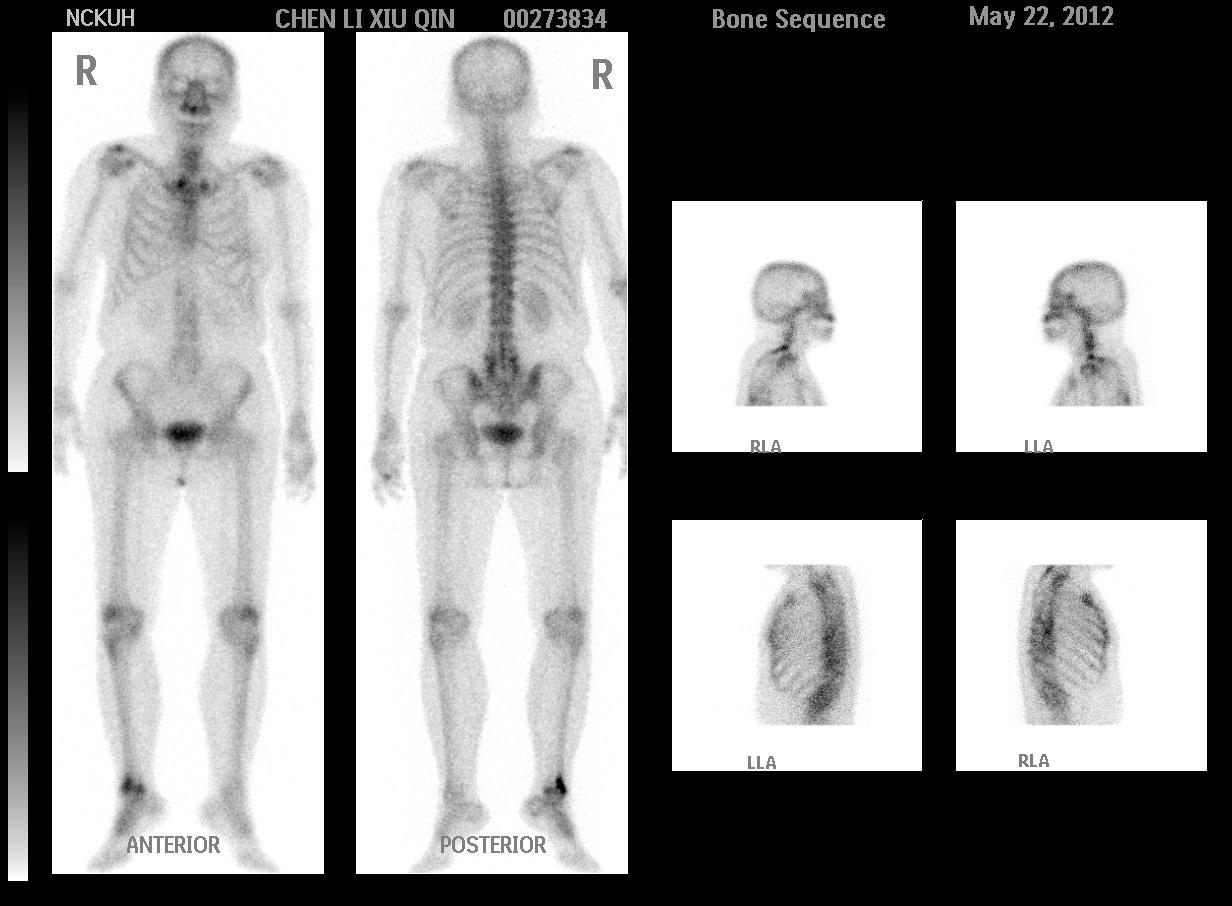person: (50, 32, 630, 874)
